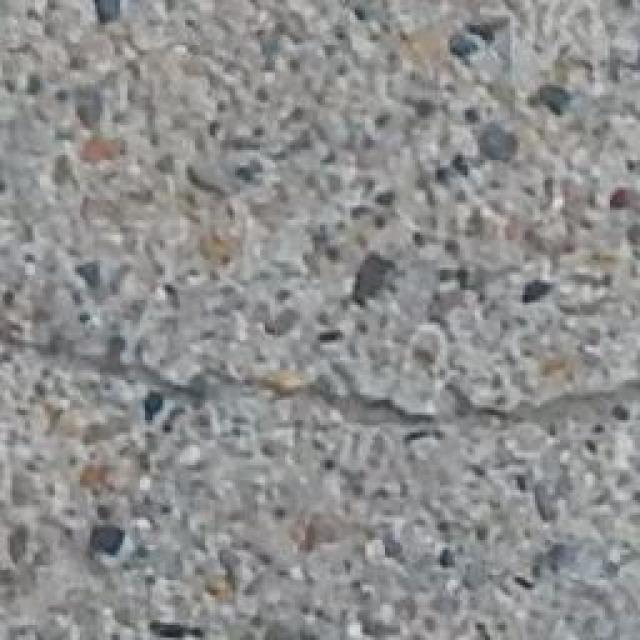concrete-crack: (0, 302, 637, 441)
